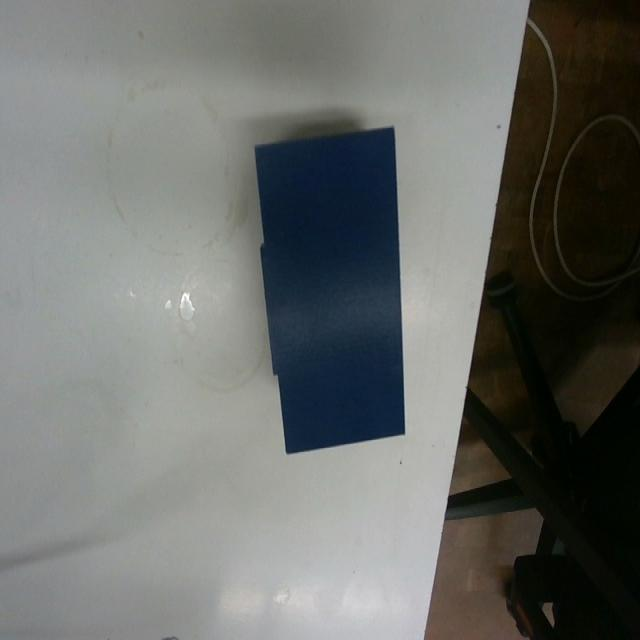Blue Cuboid: (251, 121, 408, 456)
